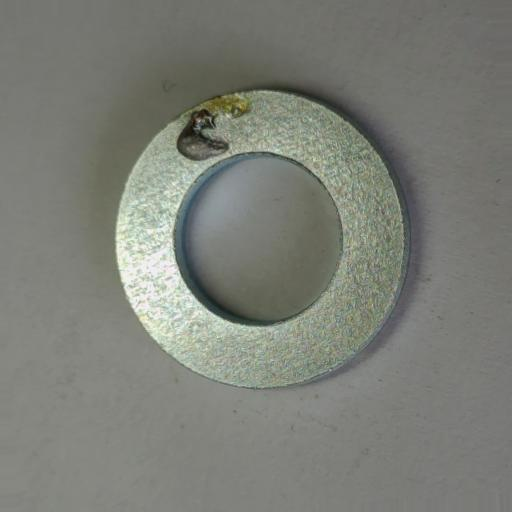excess_material: (176, 109, 229, 161)
